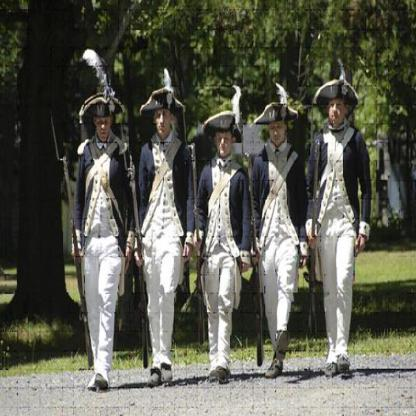face: (216, 128, 234, 158), (330, 96, 347, 126), (156, 106, 172, 137), (269, 119, 286, 145), (97, 113, 111, 143)
